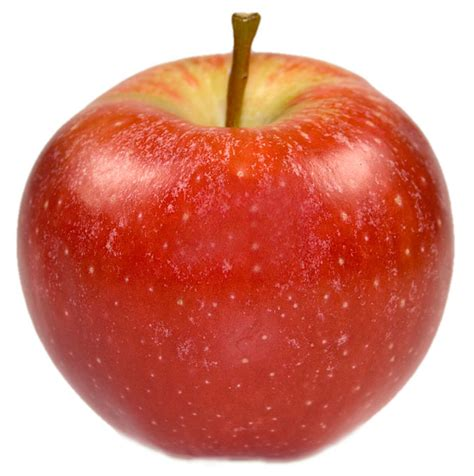apple: (18, 8, 468, 463)
